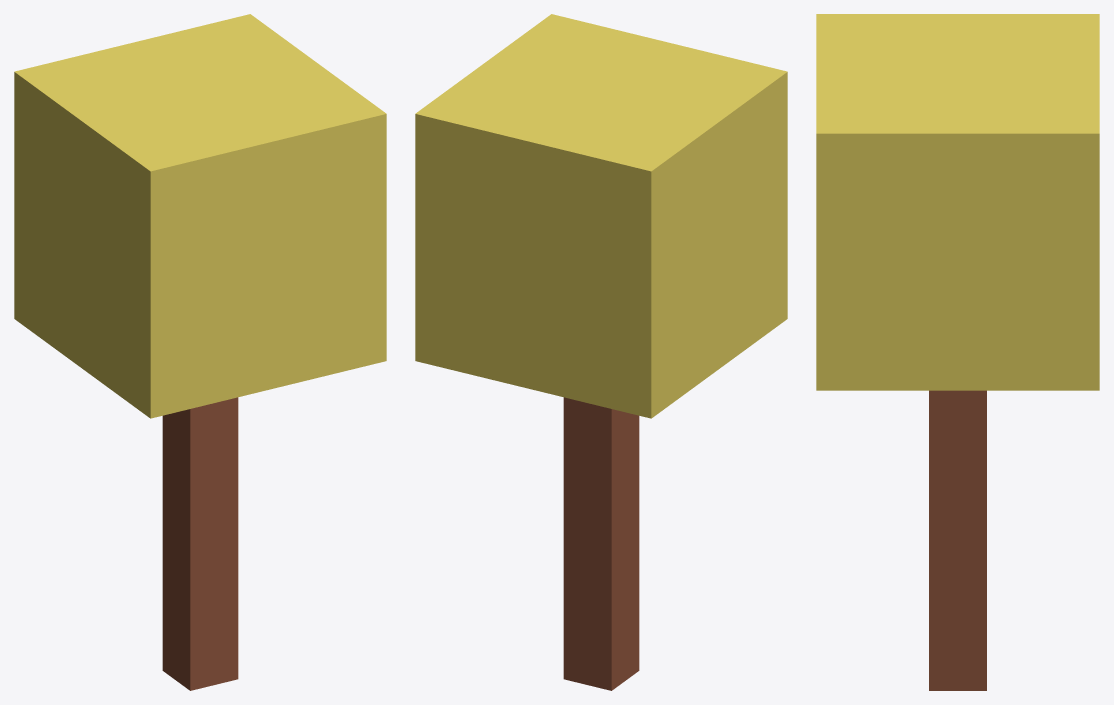
The model's file is Tree_47_autumn_pal.fbx.
3 renders of one model, left to right at view 1: azimuth 30°, elevation 25°; view 2: azimuth 150°, elevation 25°; view 3: azimuth 270°, elevation 25°, orthographic. The views are drawn at different scales.
Visible parts, largest first — view 1: Tree_47_autumn_pal; view 2: Tree_47_autumn_pal; view 3: Tree_47_autumn_pal.
Part boxes in pixels (<box>): Tree_47_autumn_pal: <box>14,14,386,690</box>; Tree_47_autumn_pal: <box>415,14,787,690</box>; Tree_47_autumn_pal: <box>816,14,1099,690</box>.
Size of the model in its own units: 72.7 by 171 by 72.7.
